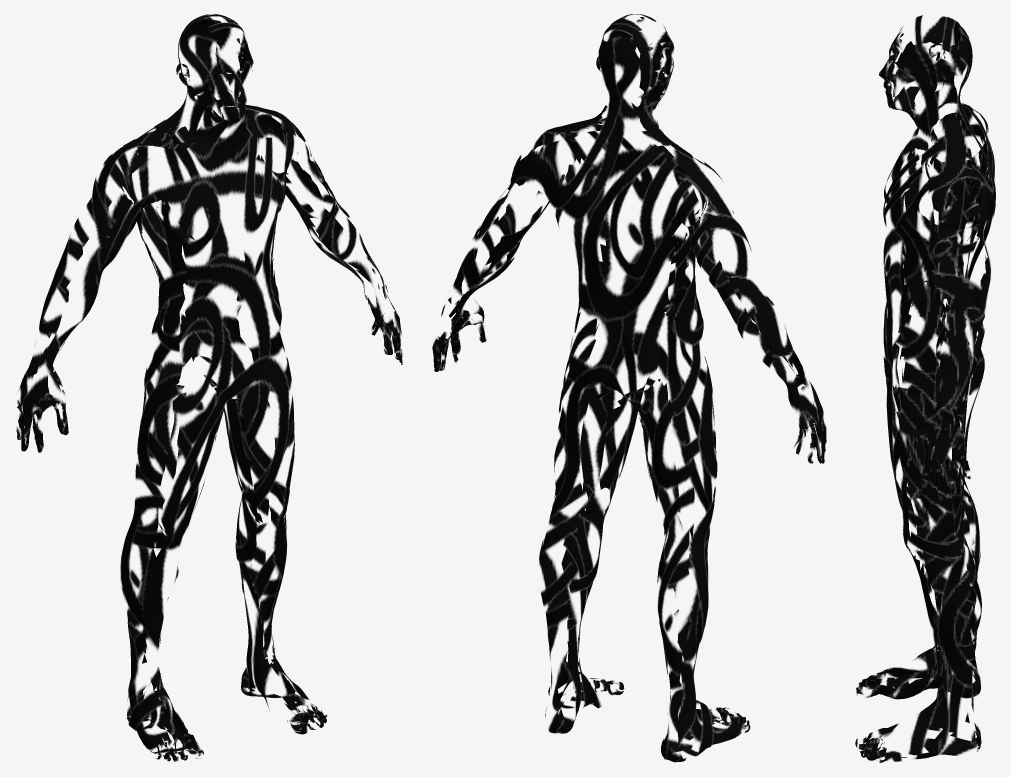
Rendered from DIGITWYN.glb.
3 views of the same model, side by side, from view 1: azimuth 30°, elevation 25°; view 2: azimuth 150°, elevation 25°; view 3: azimuth 270°, elevation 25° (orthographic).
Parts seen in each view (by area): view 1: FinalBaseMesh; view 2: FinalBaseMesh; view 3: FinalBaseMesh.
Boxes of the visible parts, x1,y1,x2,y2 form: FinalBaseMesh: [16, 14, 402, 761]; FinalBaseMesh: [432, 14, 826, 762]; FinalBaseMesh: [855, 15, 995, 762].
Bounding box in the file's own units: 1.16 × 2.07 × 0.3754.
1 material, 1 textured.
